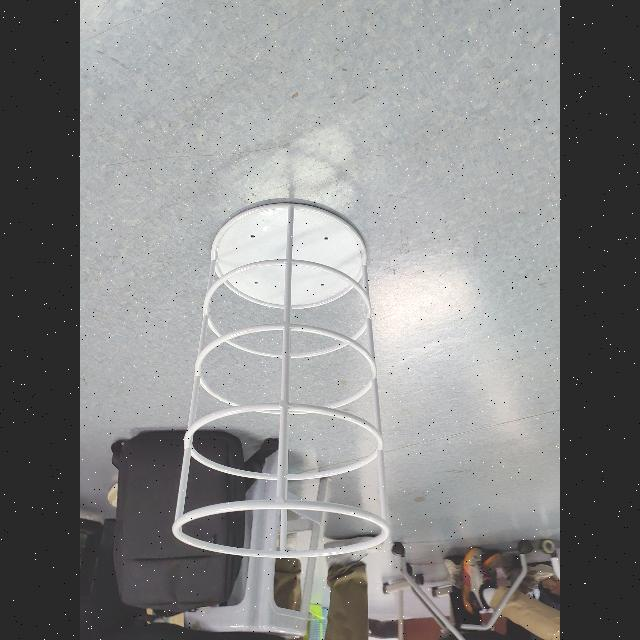S: (168, 198, 396, 562)
